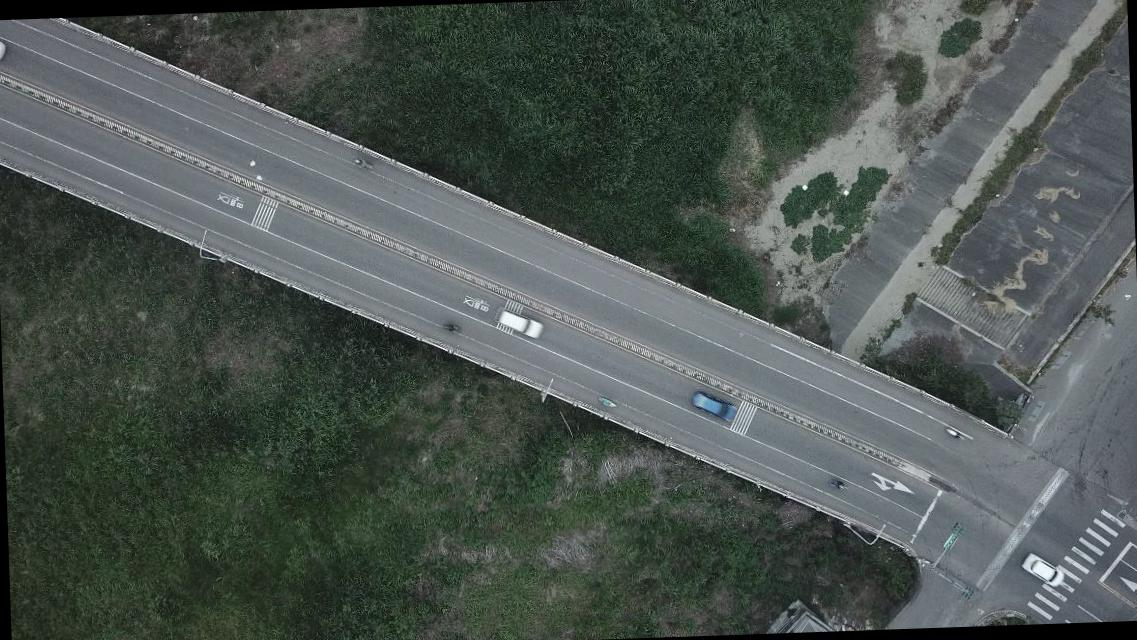vehicle: (492, 304, 546, 339), (1020, 550, 1064, 588), (691, 389, 738, 424)
